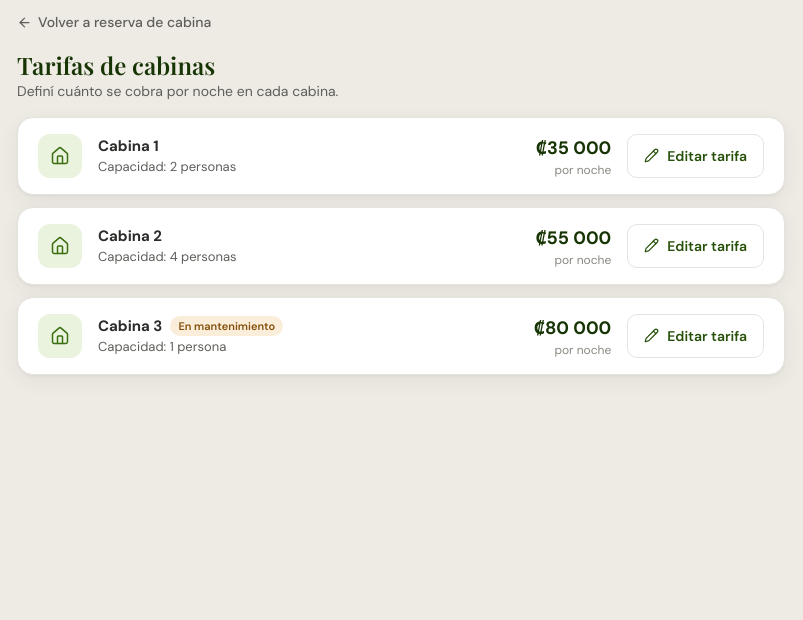
it: HU-128 pantalla Tarifas de cabinas › CA-1: guarda la tarifa, muestra el mensaje oficial y actualiza la fila
Click the button "Editar tarifa" next to "₡55 000" at (696, 246), box [627,224,764,268]
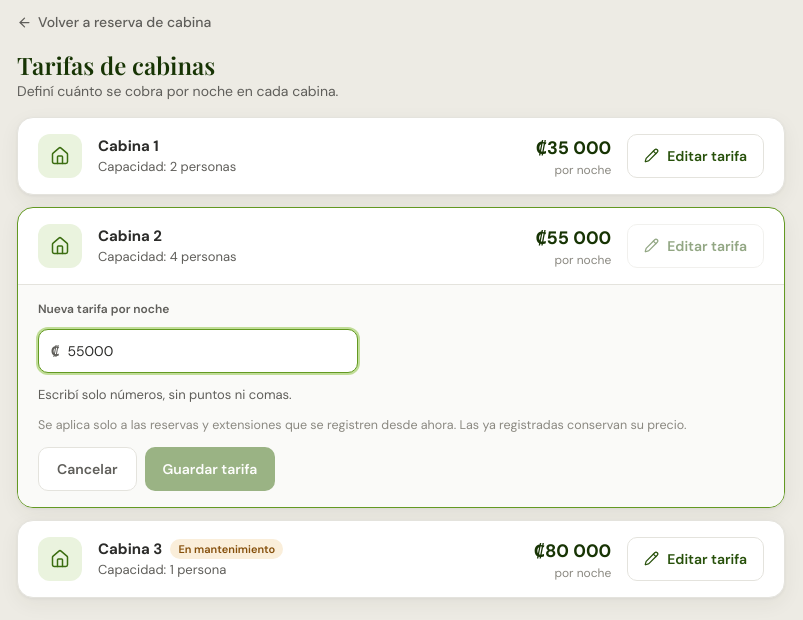
Replace the text in the field labelled "Nueva tarifa por noche" with "60000" at (206, 350), box [67,340,345,360]
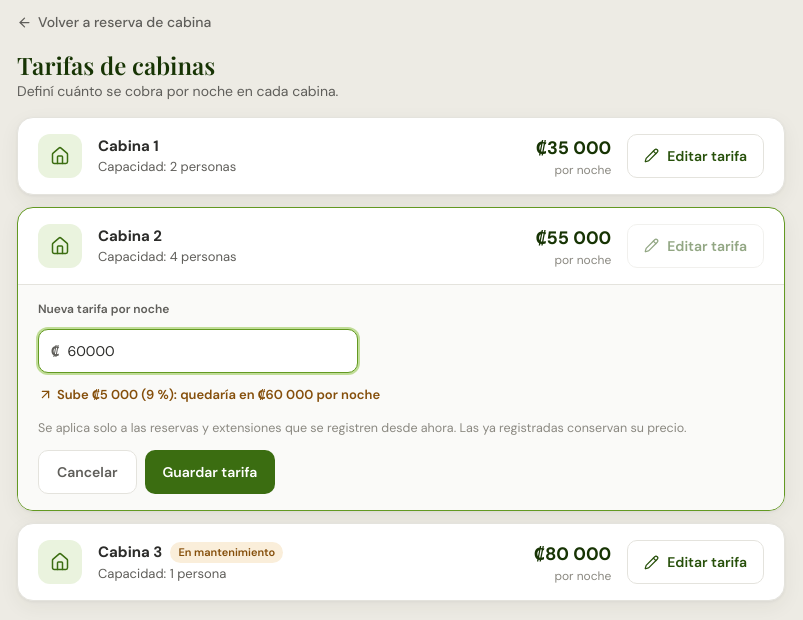
Expected: the text "Sube ₡5 000 (9 %): quedaría en ₡60 000 por noche" is shown, [38,384,380,404]
Click the button "Guardar tarifa" at (210, 472), box [144,450,275,494]
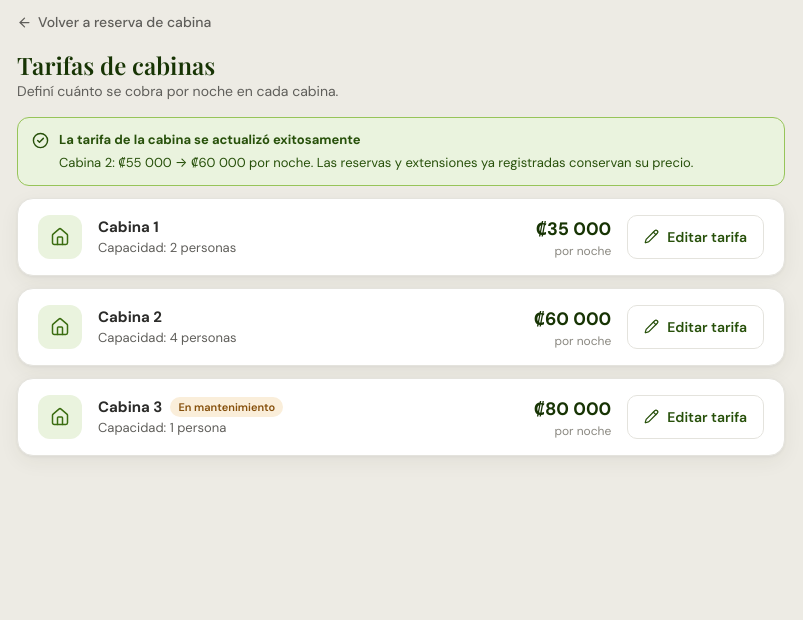
Expected: the text "La tarifa de la cabina se actualizó exitosamente" is shown, [59,130,361,148]
Expected: the label labelled "Nueva tarifa por noche" is gone
